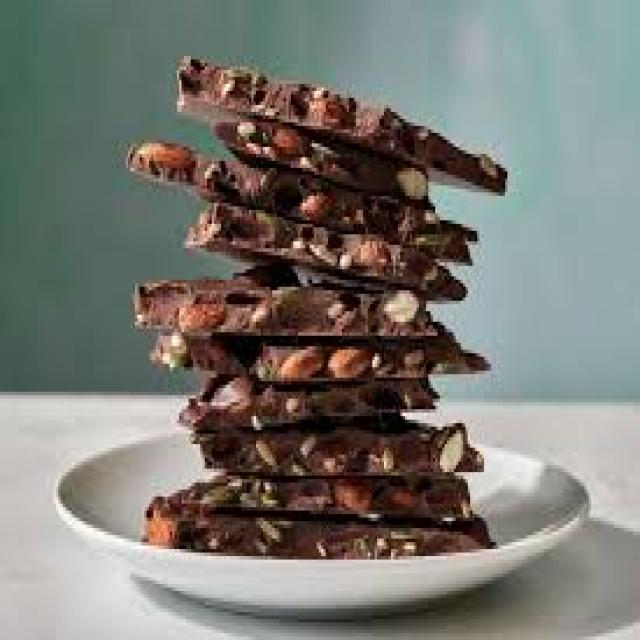Chocolate: (123, 59, 509, 580)
